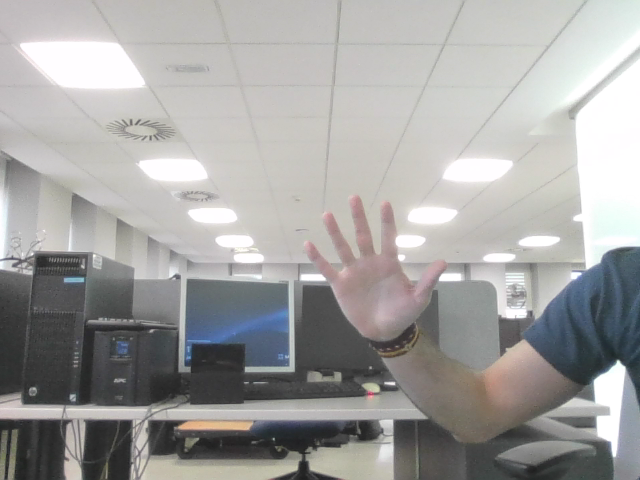Mano Abierta: (315, 205, 434, 312)
